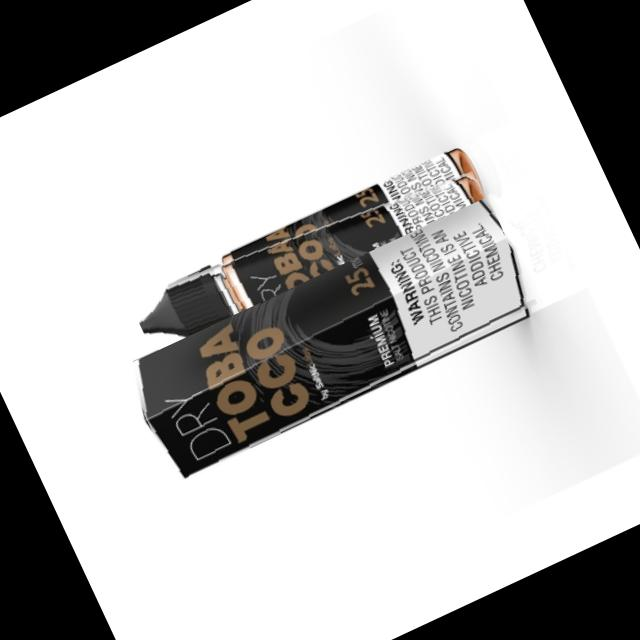Hazard: (119, 196, 542, 485), (128, 141, 492, 359)
